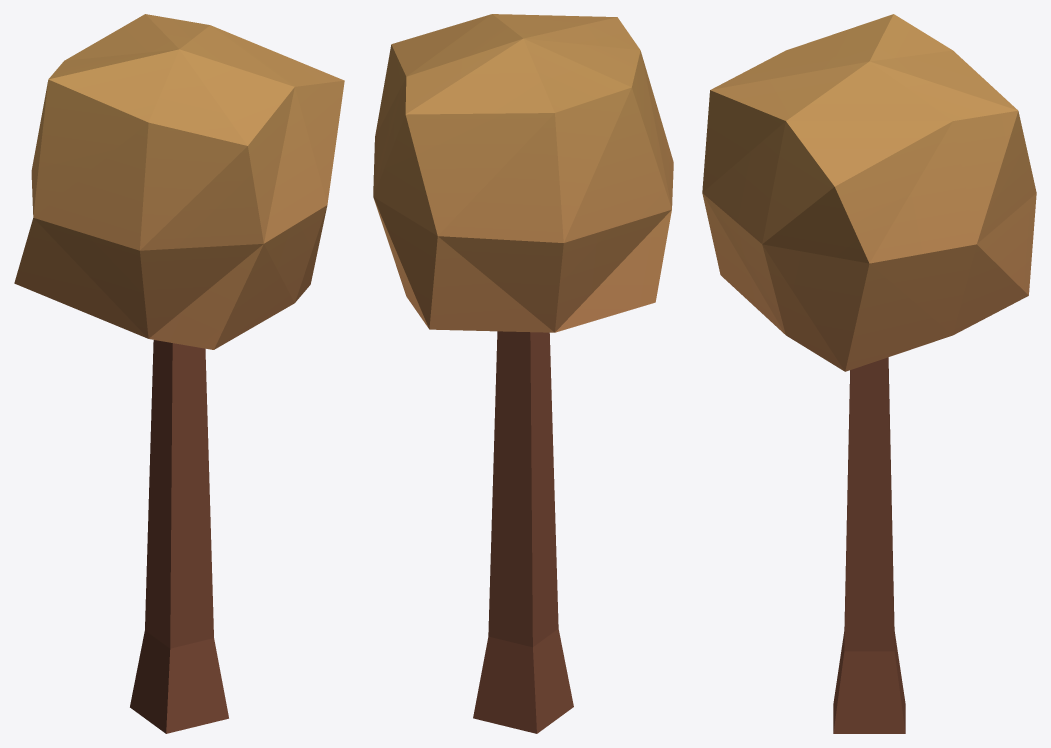
The model's file is Tree_42_gradient_yellow_vc.fbx.
3 views of the same model, side by side, from view 1: azimuth 30°, elevation 25°; view 2: azimuth 150°, elevation 25°; view 3: azimuth 270°, elevation 25° (orthographic). The views are drawn at different scales.
Parts seen in each view (by area): view 1: Tree_42_gradient_yellow_vc; view 2: Tree_42_gradient_yellow_vc; view 3: Tree_42_gradient_yellow_vc.
Part boxes in pixels (x1,y1,x2,y2): Tree_42_gradient_yellow_vc: (14,14,344,733); Tree_42_gradient_yellow_vc: (373,14,673,733); Tree_42_gradient_yellow_vc: (702,14,1036,733).
Bounding box in the file's own units: 98.78 × 212 × 97.79.
